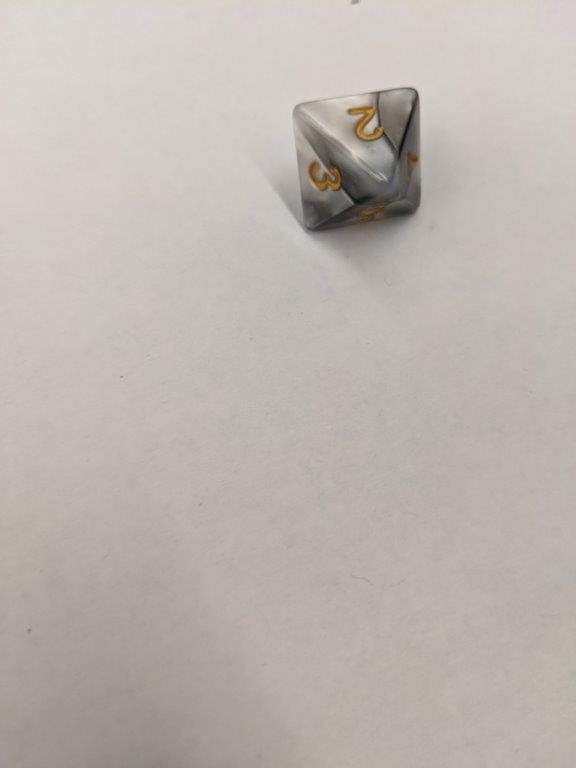d8-2: (291, 84, 424, 235)
